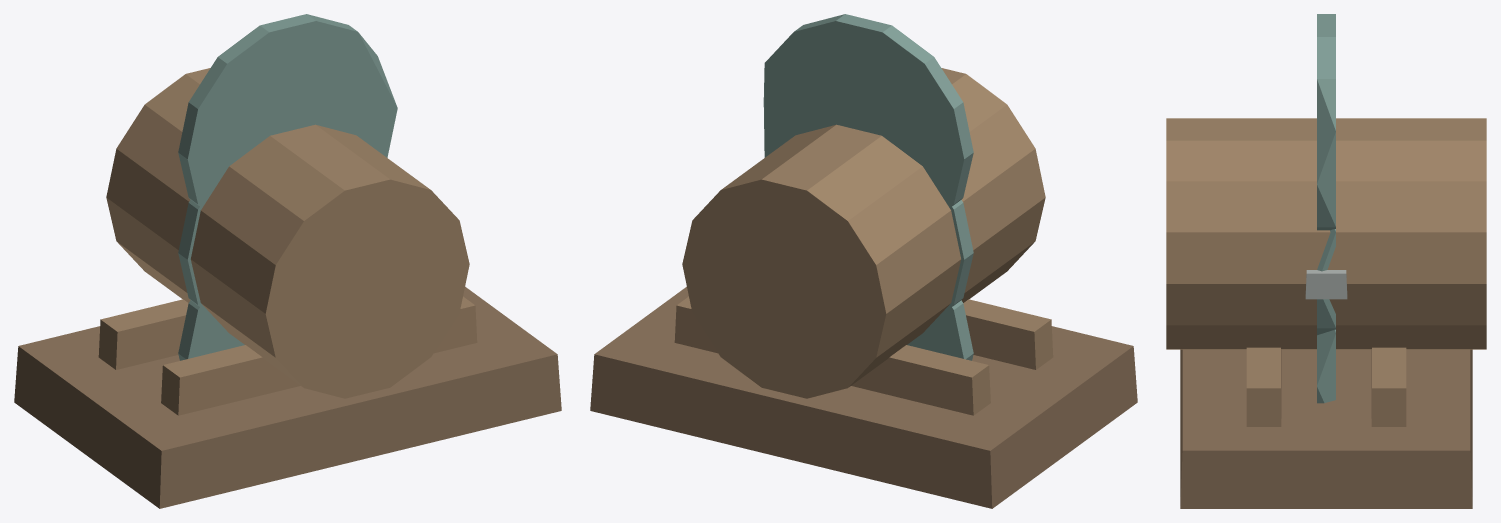
Rendered from station_aging_barrel_optimized60.glb.
3 renders of one model, left to right at view 1: azimuth 30°, elevation 25°; view 2: azimuth 150°, elevation 25°; view 3: azimuth 270°, elevation 25°, orthographic.
Visible parts, largest first — view 1: part_3, part_0, part_6, part_2, part_1, part_5, part_4; view 2: part_3, part_0, part_6, part_1, part_2, part_5, part_4; view 3: part_3, part_0, part_6, part_1, part_2, part_4, part_7, part_5.
Boxes of the visible parts, bbox=[...] form: part_3: bbox=[106, 68, 469, 398]; part_0: bbox=[14, 286, 561, 508]; part_6: bbox=[178, 14, 397, 206]; part_2: bbox=[161, 296, 477, 415]; part_1: bbox=[98, 299, 188, 369]; part_5: bbox=[178, 121, 361, 338]; part_4: bbox=[178, 300, 244, 360]; part_3: bbox=[682, 68, 1045, 398]; part_0: bbox=[590, 286, 1137, 508]; part_6: bbox=[763, 14, 973, 207]; part_1: bbox=[674, 296, 990, 415]; part_2: bbox=[963, 299, 1053, 369]; part_5: bbox=[787, 121, 973, 338]; part_4: bbox=[907, 300, 973, 360]; part_3: bbox=[1166, 118, 1486, 349]; part_0: bbox=[1180, 349, 1472, 508]; part_6: bbox=[1317, 14, 1335, 230]; part_1: bbox=[1371, 347, 1406, 426]; part_2: bbox=[1246, 347, 1281, 426]; part_4: bbox=[1317, 329, 1335, 403]; part_7: bbox=[1305, 270, 1347, 299]; part_5: bbox=[1317, 229, 1335, 335].
Size of the model in its own units: 1.34 by 1.32 by 0.92.
